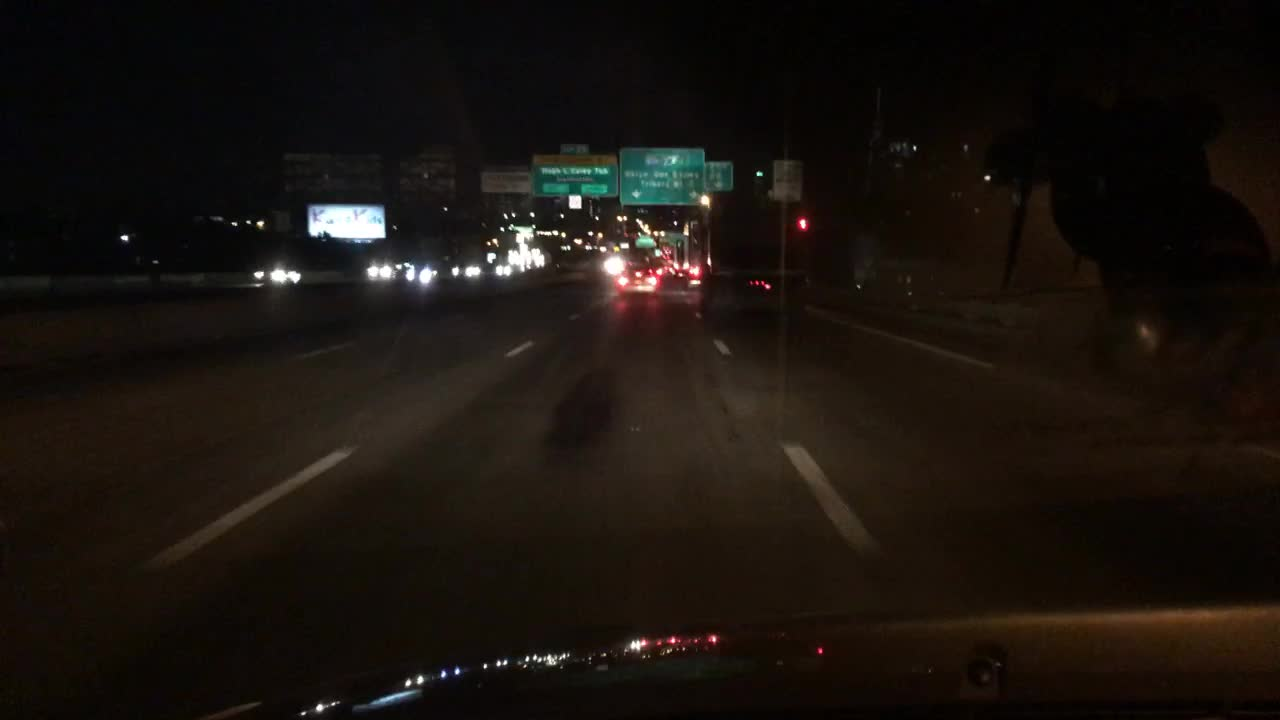car: (615, 262, 661, 296), (253, 265, 301, 285), (407, 266, 434, 282), (364, 264, 392, 278), (452, 265, 482, 278), (669, 266, 686, 278)
traffic light: (797, 216, 807, 229)
traffic sign: (618, 147, 702, 204), (282, 150, 382, 193), (532, 152, 617, 196), (400, 159, 455, 199), (479, 168, 530, 193), (773, 159, 803, 201), (704, 160, 731, 191), (560, 143, 590, 155), (425, 143, 454, 154), (568, 195, 583, 208), (636, 238, 655, 247), (618, 242, 629, 248), (612, 246, 619, 251)
